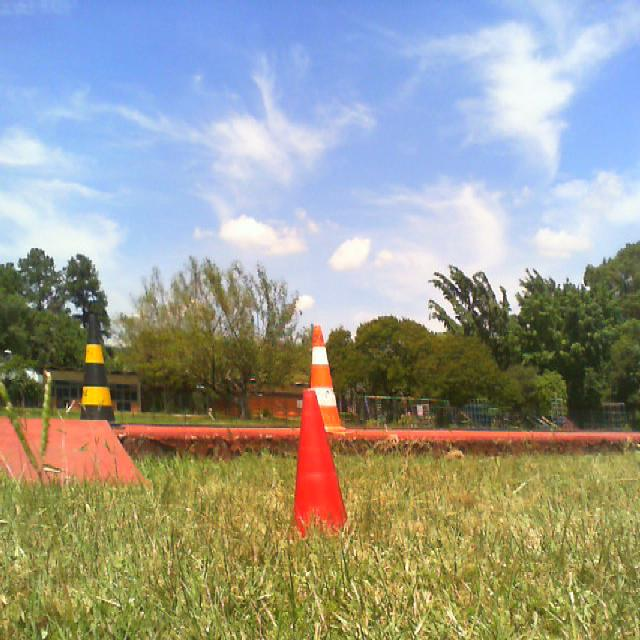cone: (290, 389, 348, 543), (78, 314, 124, 429), (310, 325, 357, 435)
